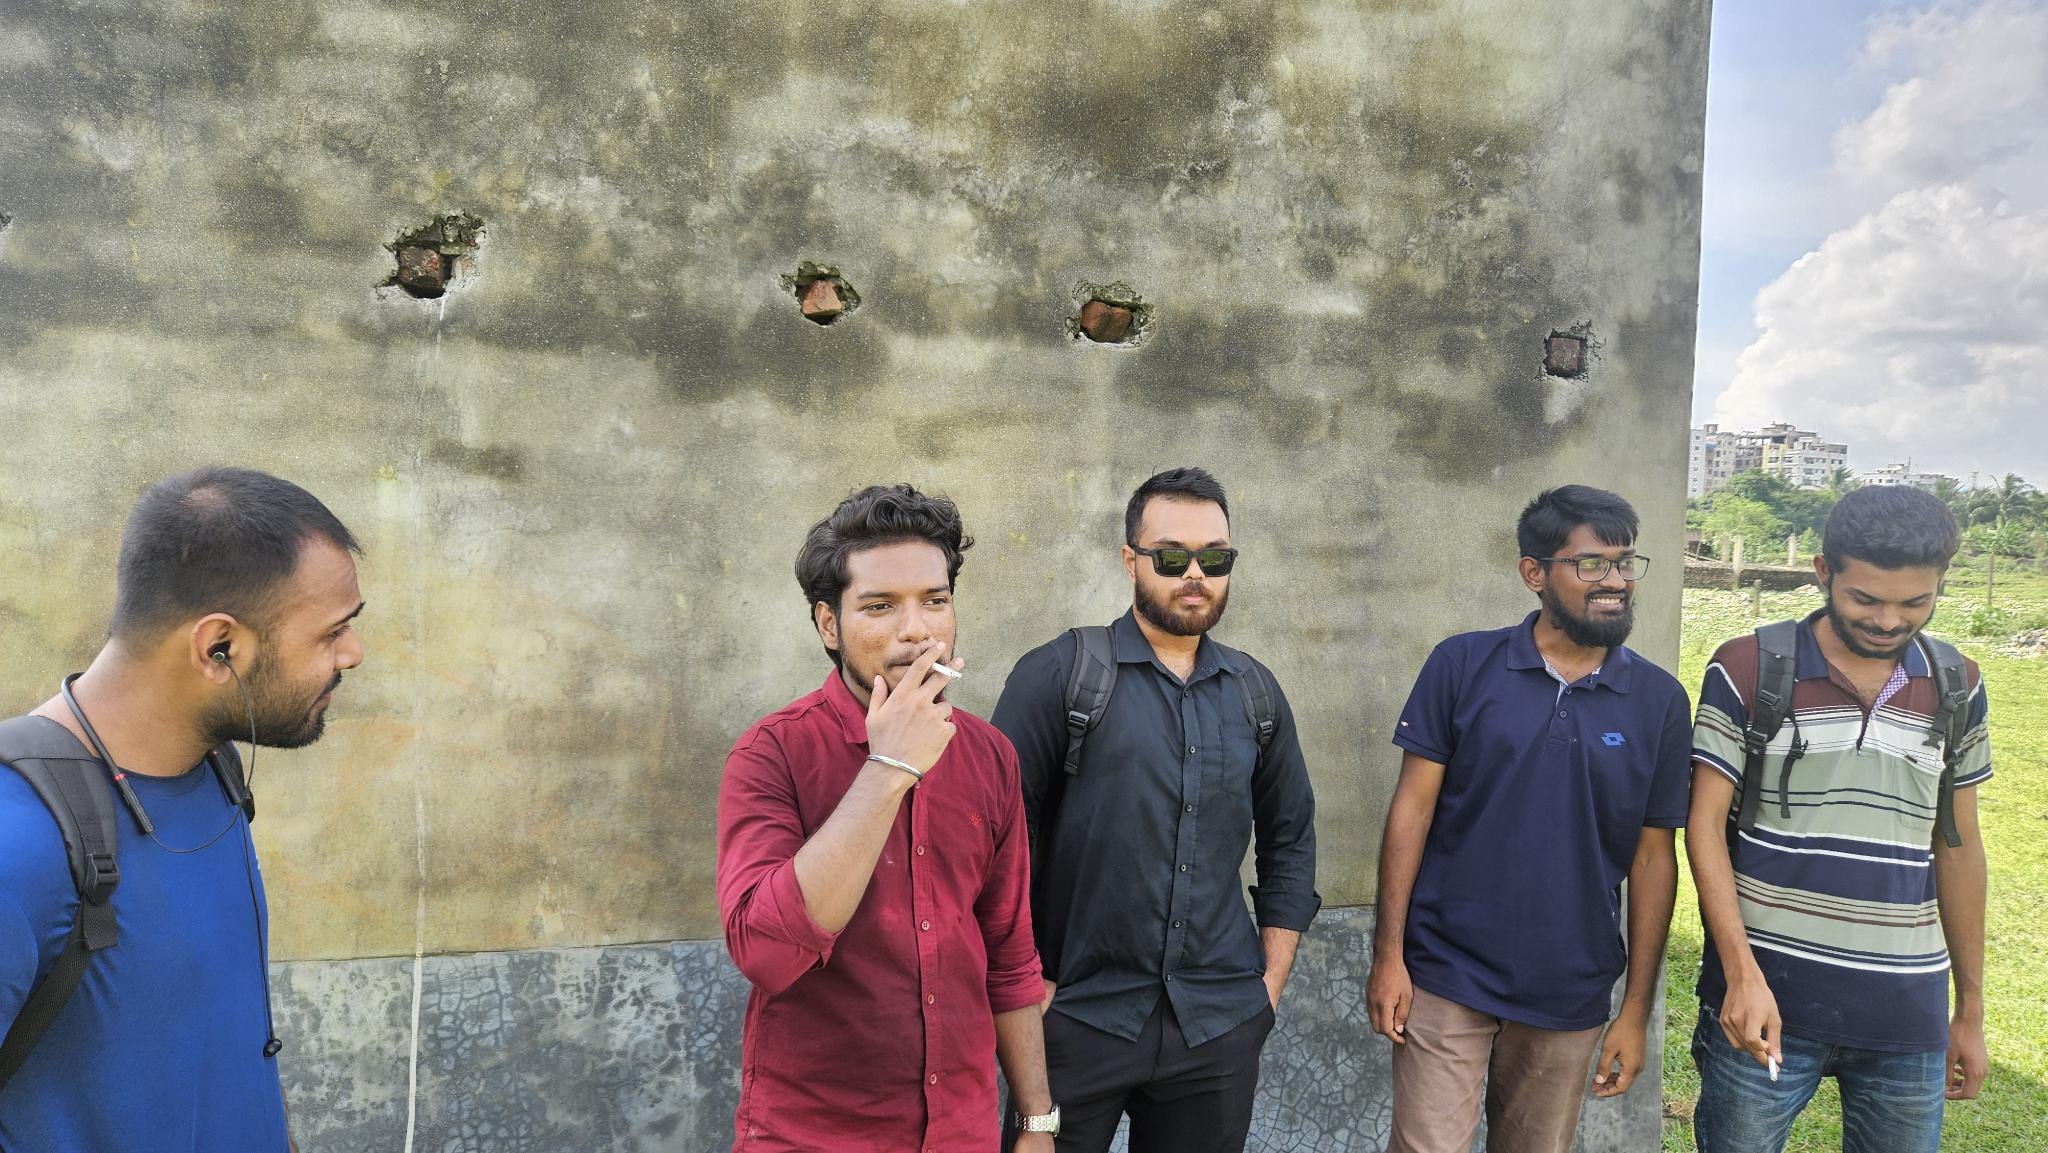cigarette: (928, 658, 966, 683), (1762, 1048, 1784, 1087)
nonSmoker: (0, 460, 367, 1153), (980, 465, 1322, 1153), (1366, 481, 1692, 1153)
smoker: (726, 484, 1059, 1153), (1685, 484, 1989, 1153)
